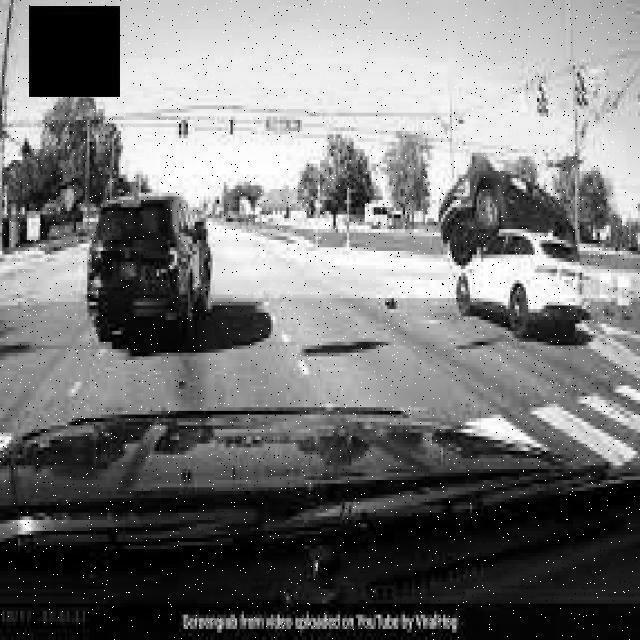accident: (438, 140, 590, 337)
vehicle: (87, 192, 212, 342)
